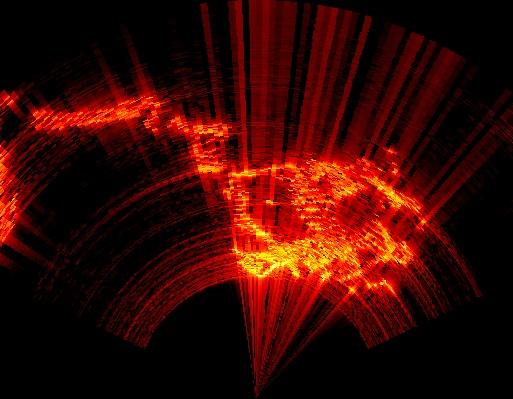shipwreck: (33, 93, 420, 279)
